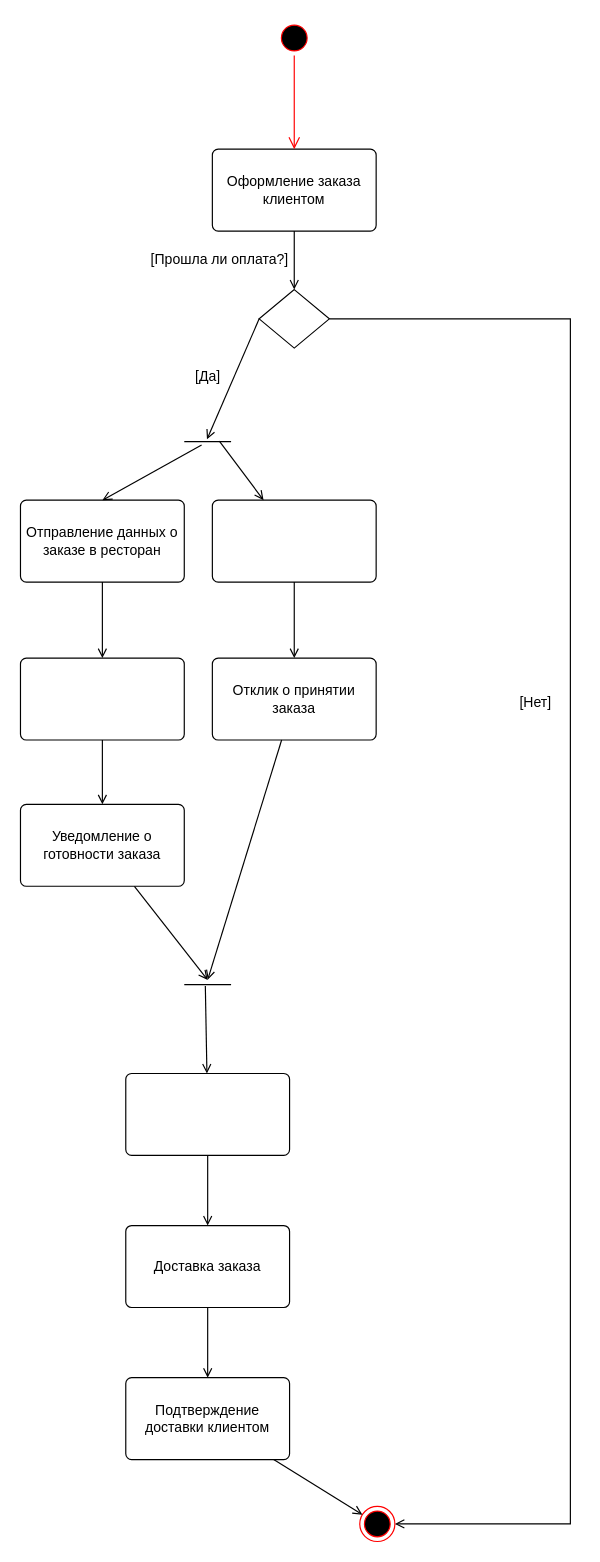
Some shapes in this 600 by 1562 pixel diagram are drawn without their labels. Each missing label, with the centre of its shape:
"Курьер забрал заказ" goes at (207,1113).
"Отправление данных о заказе курьеру" goes at (293,540).
"Приготовление заказа" goes at (101,698).
